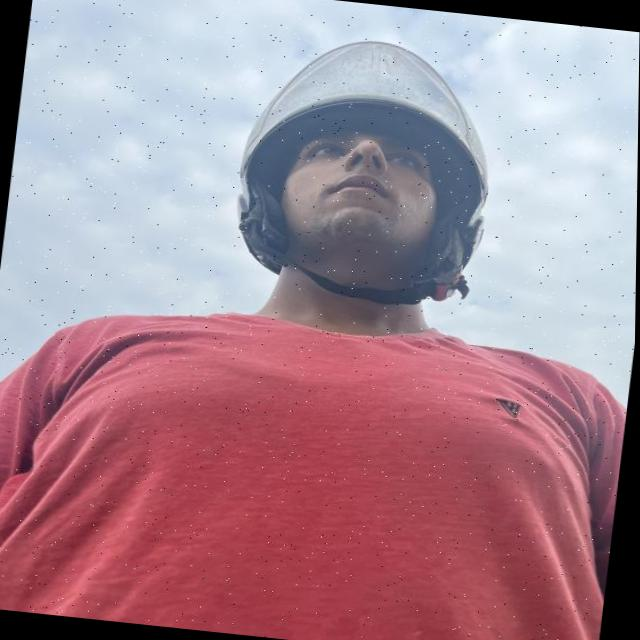helmet: (227, 22, 509, 321)
